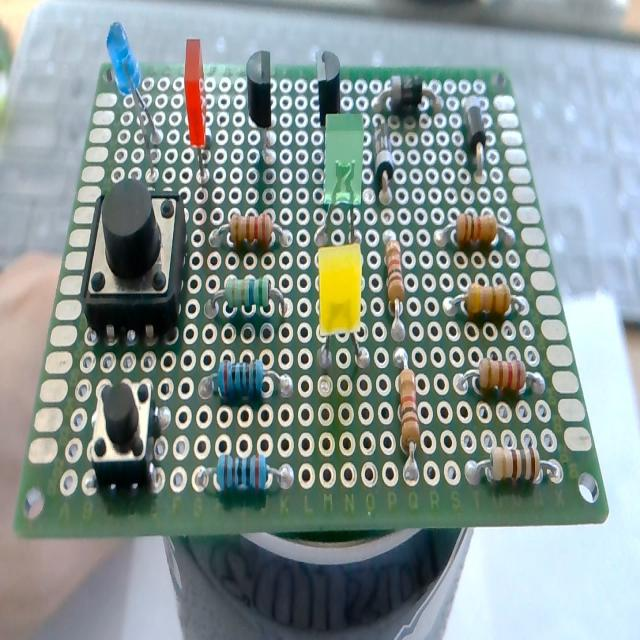led: (100, 10, 168, 188), (313, 103, 370, 248), (177, 28, 215, 192)
